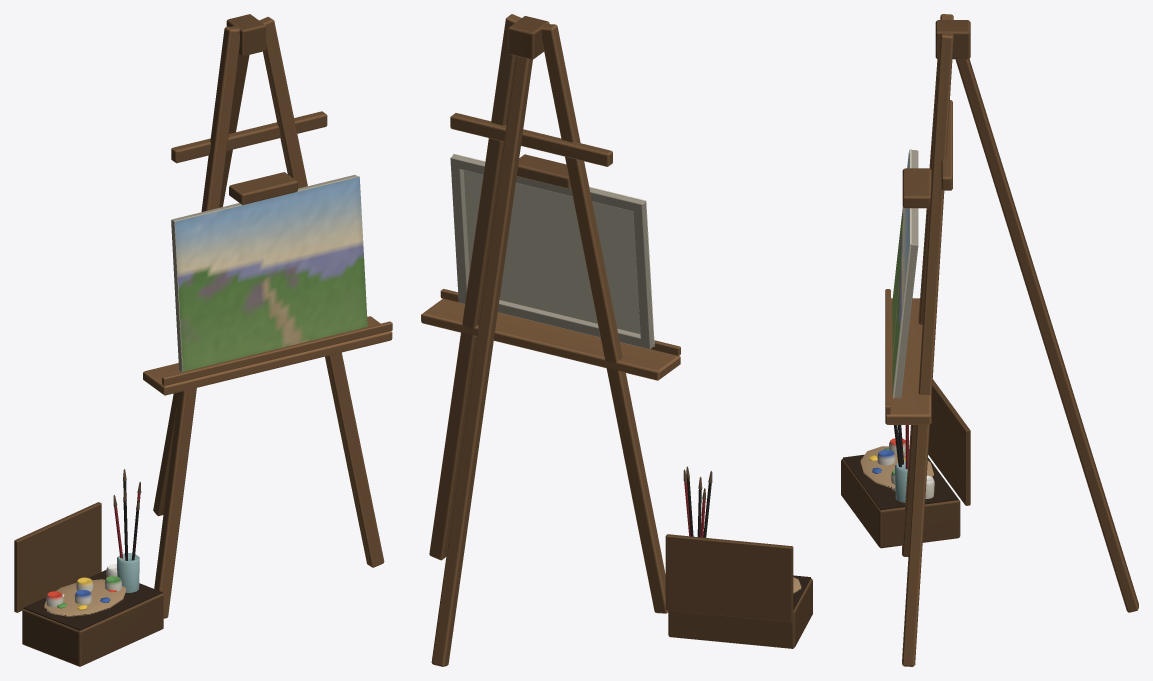
Rendered from easel_painter.glb.
3 renders of one model, left to right at view 1: azimuth 30°, elevation 25°; view 2: azimuth 150°, elevation 25°; view 3: azimuth 270°, elevation 25°, orthographic. The views are drawn at different scales.
Visible parts, largest first — view 1: easel_painter_LOD0; view 2: easel_painter_LOD0; view 3: easel_painter_LOD0.
Part boxes in pixels (<box>): easel_painter_LOD0: <box>14,14,392,666</box>; easel_painter_LOD0: <box>421,14,812,666</box>; easel_painter_LOD0: <box>841,14,1138,666</box>.
Size of what is drawn, in the model's own units: 1.12 by 1.67 by 0.7673.
